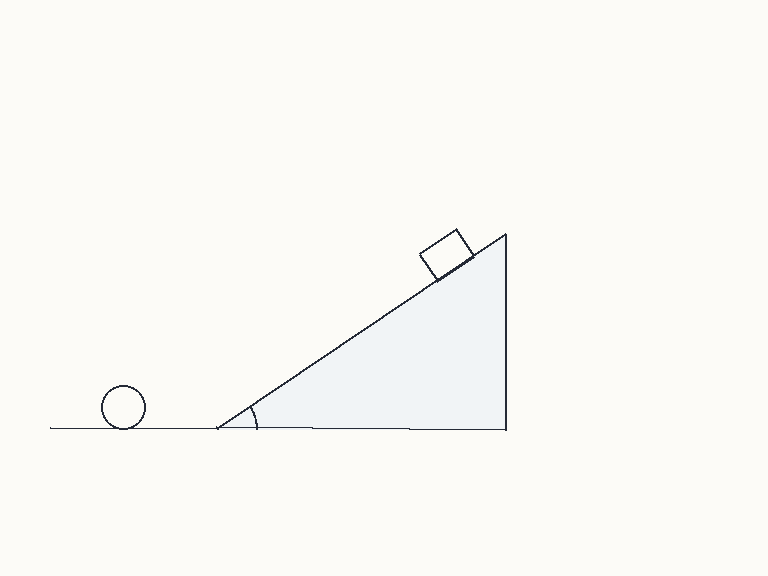ball: (99, 383, 147, 431)
block: (417, 227, 476, 283)
ramp: (215, 233, 507, 431)
